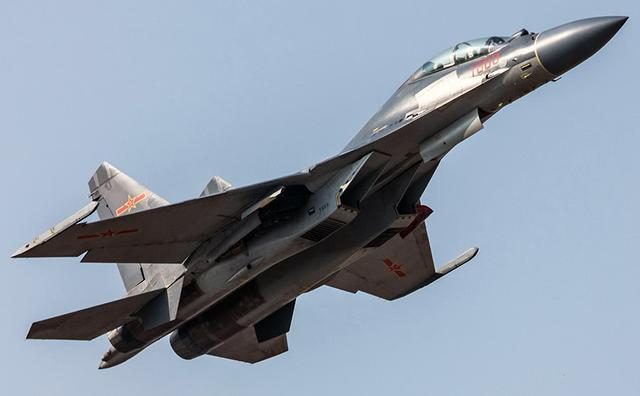airplane: (8, 13, 630, 370)
